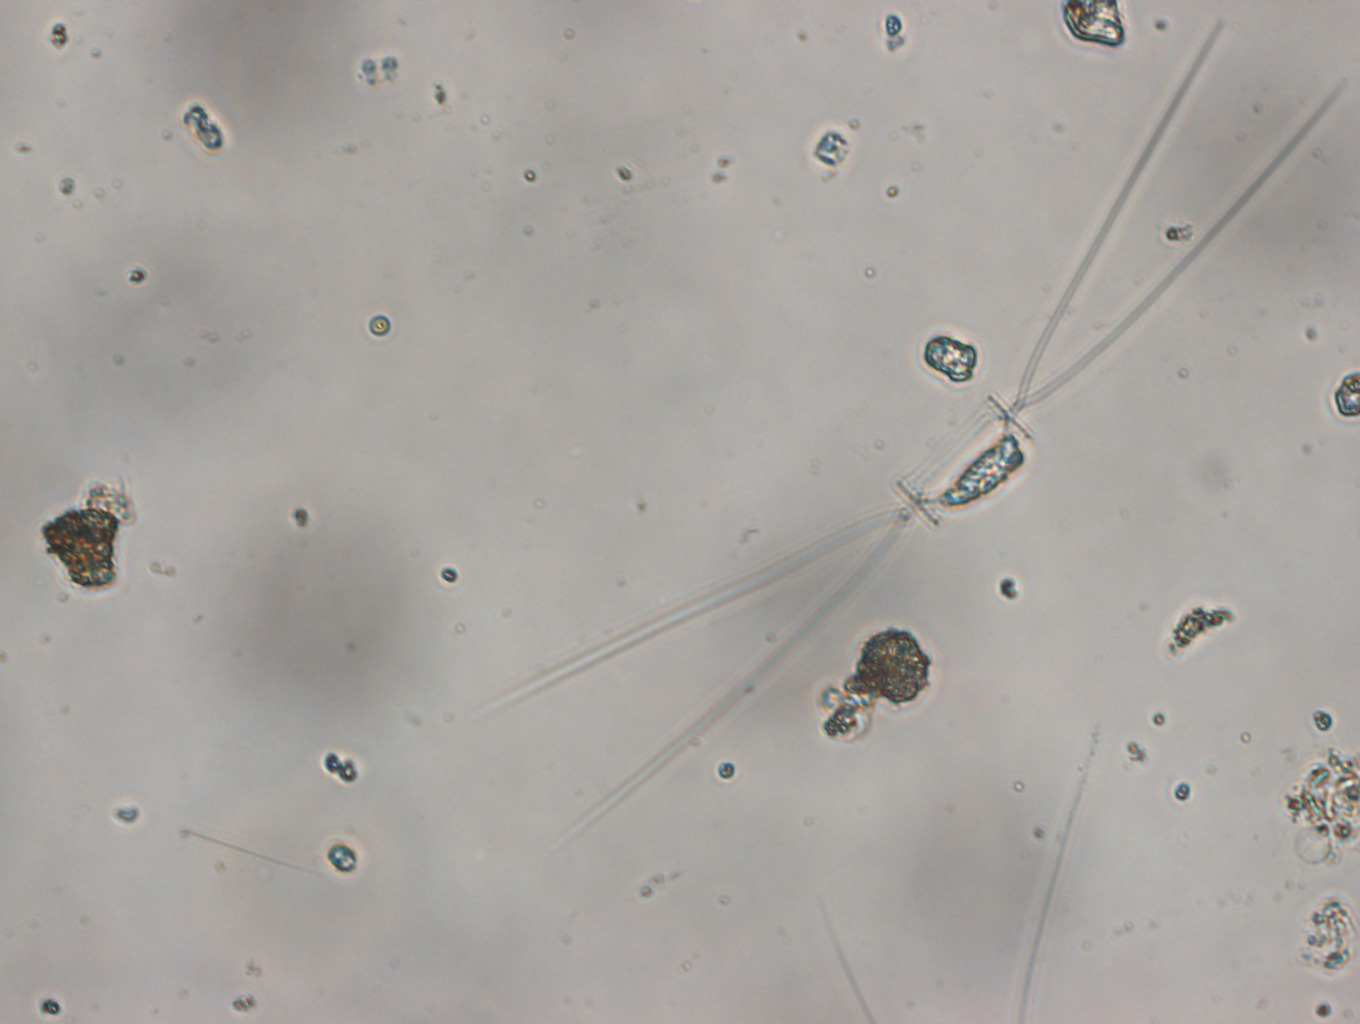chaetoceros: (483, 14, 1360, 815)
